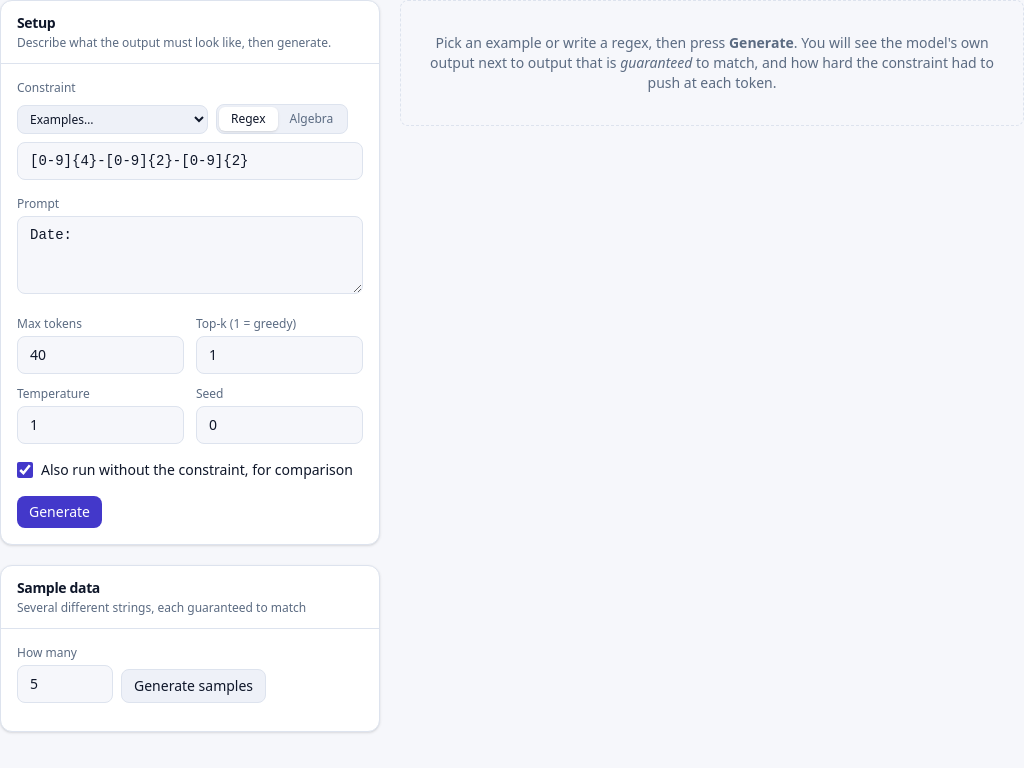
Test case: Generate page › shows server-side errors from the stream and from the request
This screenshot has width=1024, height=768.
Click the button "Generate".
click(60, 512)  # box 17,496 -> 102,528
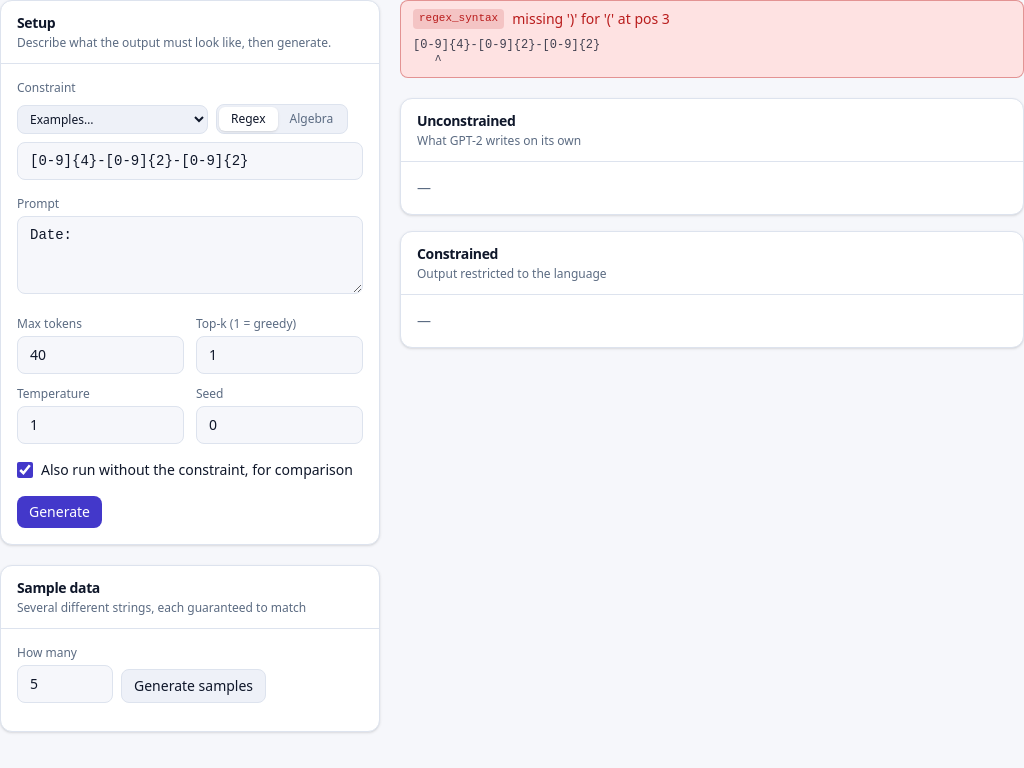
Now the text "regex_syntax" is shown, box 413,9 -> 504,29
Now the message shows "missing ')'", box 512,9 -> 670,28
